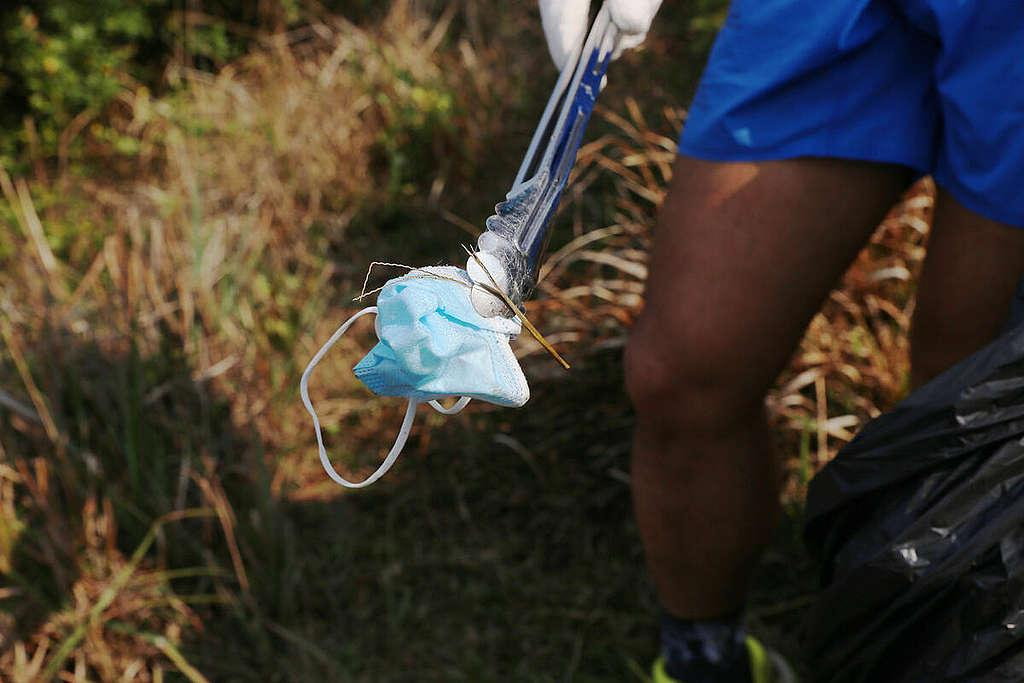Glove: (538, 0, 589, 68)
Mask: (300, 266, 528, 487), (353, 267, 528, 406)
